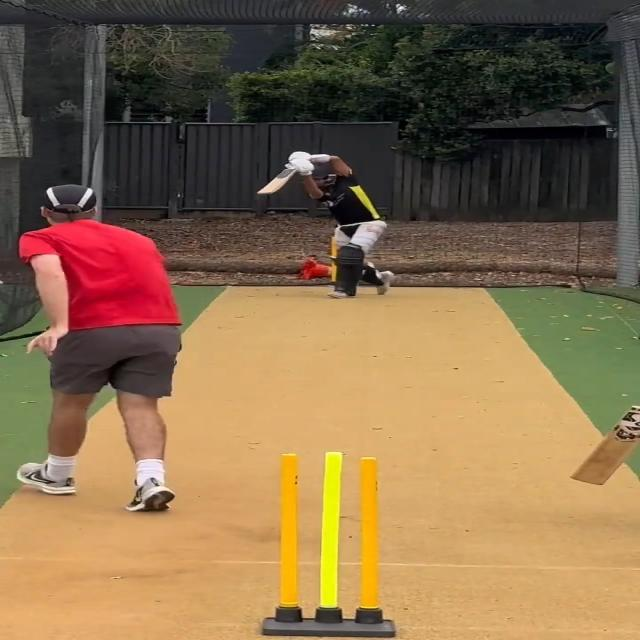stump: (269, 451, 395, 640)
